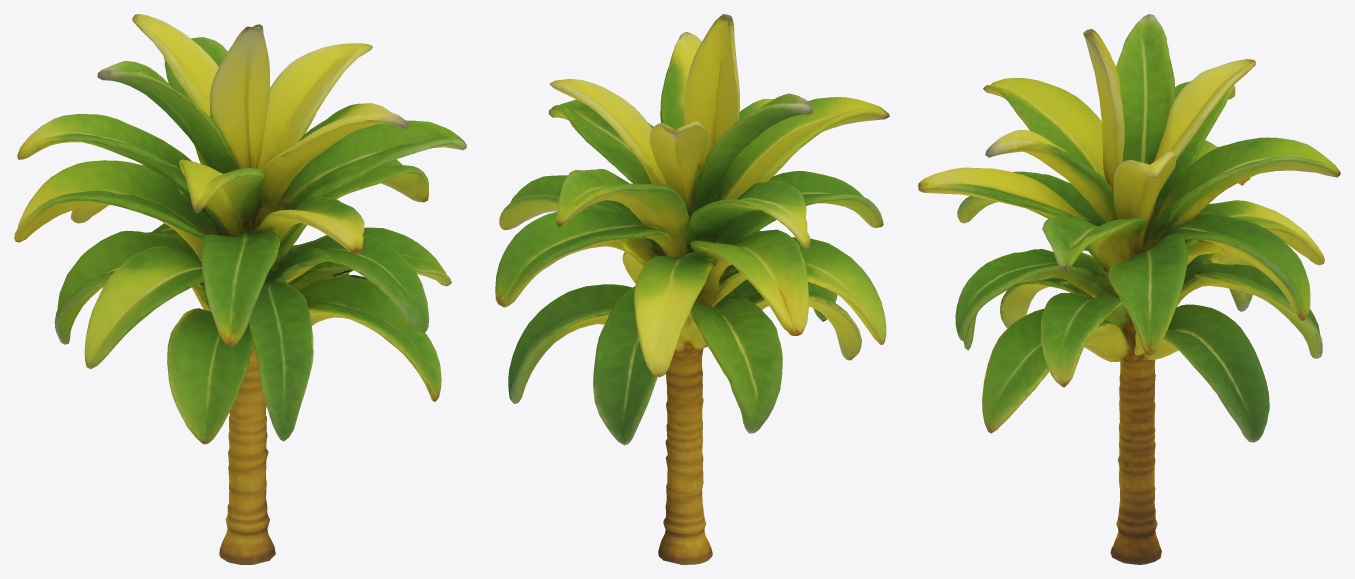
Rendered from banana-x-plant-iv.glb.
3 views of the same model, side by side, from view 1: azimuth 30°, elevation 25°; view 2: azimuth 150°, elevation 25°; view 3: azimuth 270°, elevation 25° (orthographic). The views are drawn at different scales.
Visible parts, largest first — view 1: world_0; view 2: world_0; view 3: world_0.
Boxes of the visible parts, bbox=[...] form: world_0: bbox=[14, 14, 466, 564]; world_0: bbox=[495, 14, 889, 564]; world_0: bbox=[918, 14, 1340, 564].
Bounding box in the file's own units: 0.7081 × 1 × 0.7456.
1 material, 1 textured.
